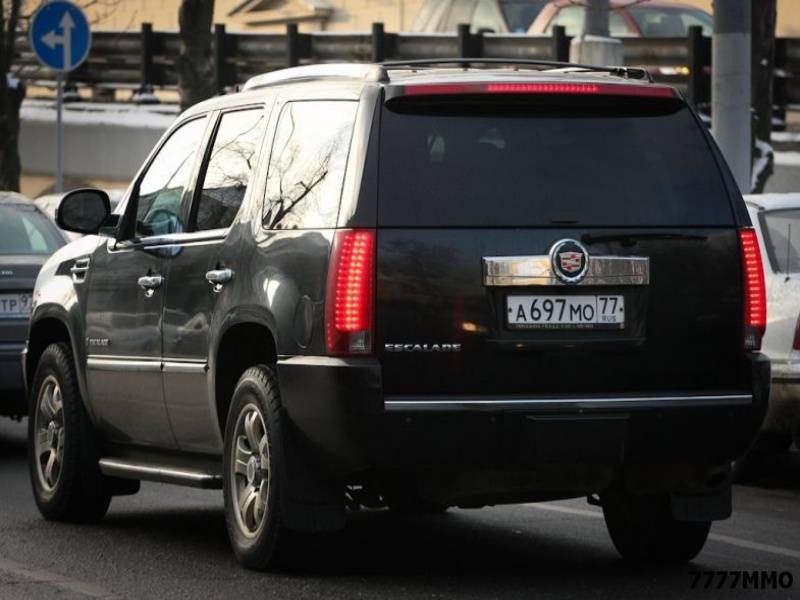car: (23, 63, 771, 568)
plate: (506, 296, 623, 323)
